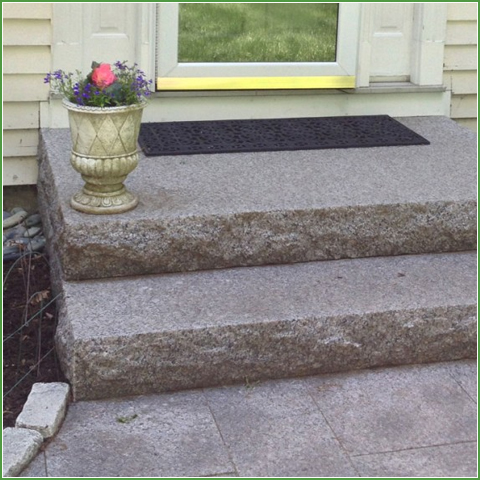upstairs: (138, 185, 480, 416)
